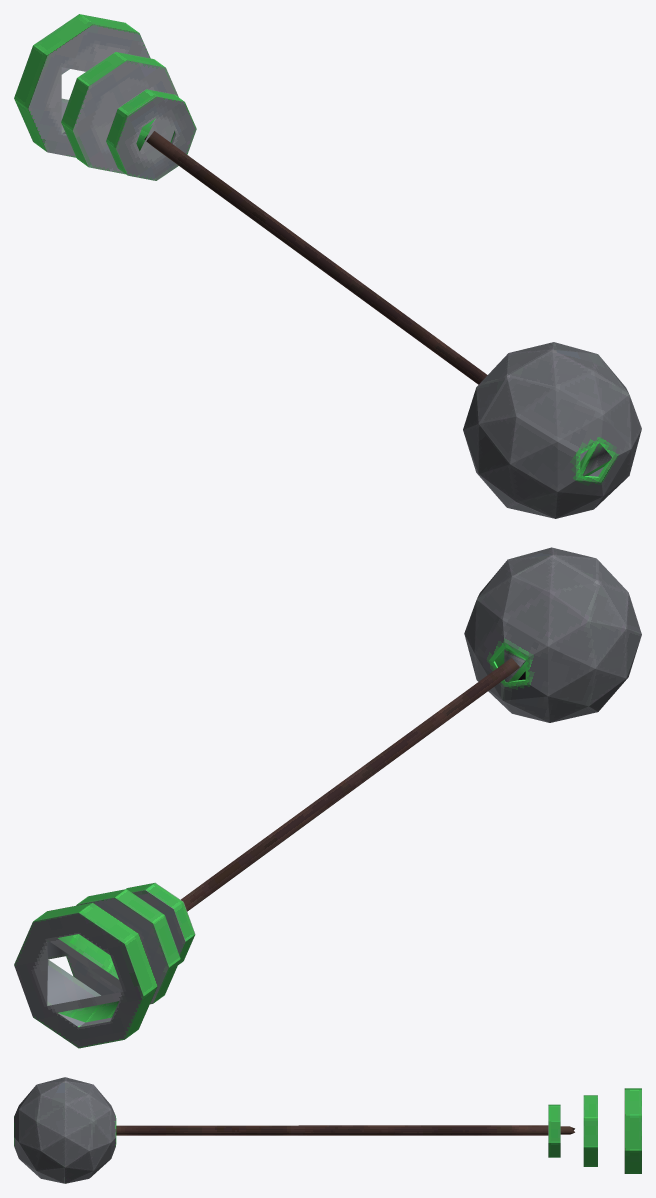
File: item_arrow_teleport.glb
The picture shows the model from 3 angles, top to bottom: view 1: azimuth 30°, elevation 25°; view 2: azimuth 150°, elevation 25°; view 3: azimuth 270°, elevation 25°; orthographic projection. The views are drawn at different scales.
Parts seen in each view (by area): view 1: Arrow_Teleport.001; view 2: Arrow_Teleport.001; view 3: Arrow_Teleport.001.
Boxes of the visible parts, left/top/right/bottom form: Arrow_Teleport.001: left=14, top=14, right=641, bottom=518; Arrow_Teleport.001: left=14, top=547, right=641, bottom=1048; Arrow_Teleport.001: left=14, top=1077, right=641, bottom=1183.
Size of the model in its own units: 0.0755 by 0.0794 by 0.4582.
1 material, 1 textured.
